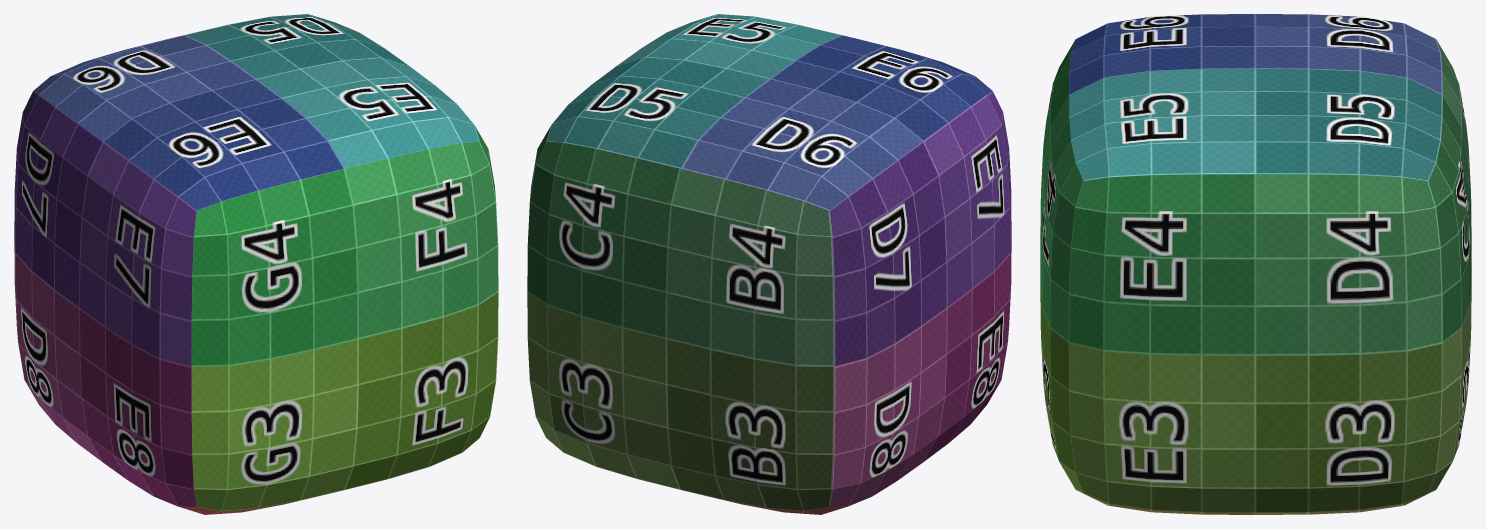
File: ColorCube.glb
3 renders of one model, left to right at view 1: azimuth 30°, elevation 25°; view 2: azimuth 150°, elevation 25°; view 3: azimuth 270°, elevation 25°, orthographic. The views are drawn at different scales.
Parts seen in each view (by area): view 1: Cube; view 2: Cube; view 3: Cube.
Boxes of the visible parts, box(x1,y1,x2,y2) form: Cube: box(14, 14, 498, 514); Cube: box(527, 14, 1011, 514); Cube: box(1040, 14, 1471, 514).
Bounding box in the file's own units: 1 × 1 × 1.
Materials: 1 (1 with a texture image).
